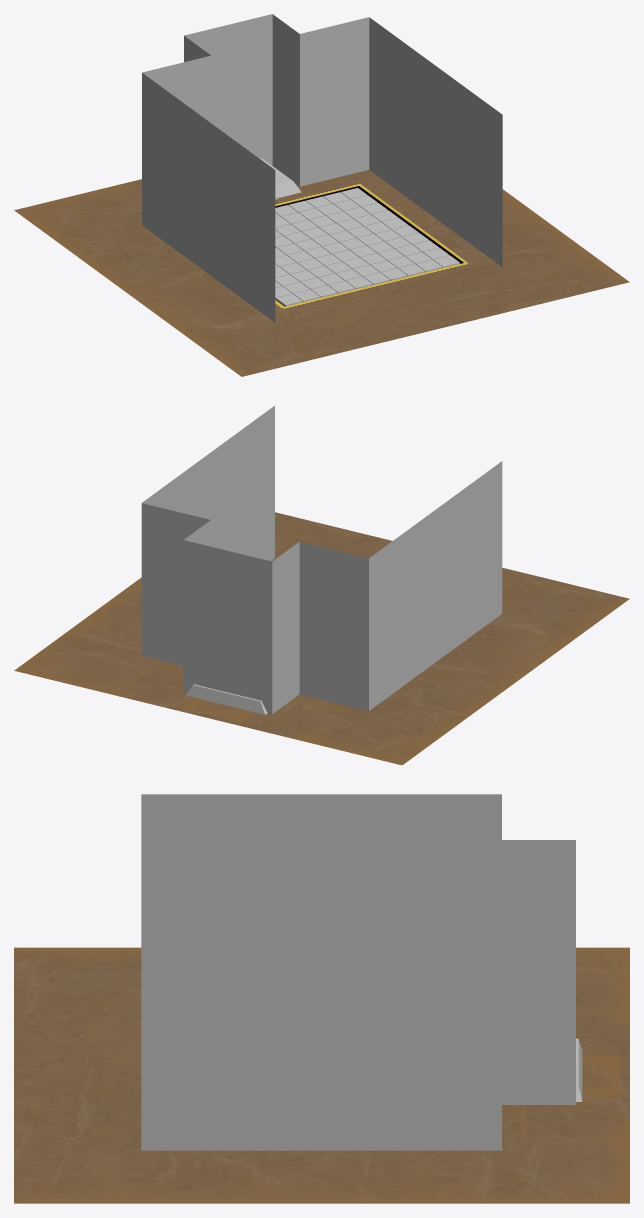
The model's file is escenario egipcio.FBX.
3 renders of one model, top to bottom at view 1: azimuth 30°, elevation 25°; view 2: azimuth 150°, elevation 25°; view 3: azimuth 270°, elevation 25°, orthographic. The views are drawn at different scales.
Parts seen in each view (by area): view 1: pared egipcia, suelo egipgio, baldosas juntas, altar; view 2: pared egipcia, suelo egipgio, altar; view 3: pared egipcia, suelo egipgio.
Part boxes in pixels (x1,y1,x2,y2): pared egipcia: (142,14,502,322); suelo egipgio: (14,170,629,376); baldosas juntas: (275,188,459,306); altar: (260,158,301,199); pared egipcia: (141,405,502,713); suelo egipgio: (14,512,629,765); altar: (186,684,267,714); pared egipcia: (141,794,575,1150); suelo egipgio: (14,947,629,1203).
Size of the model in its own units: 22.95 by 23.31 by 9.51.
